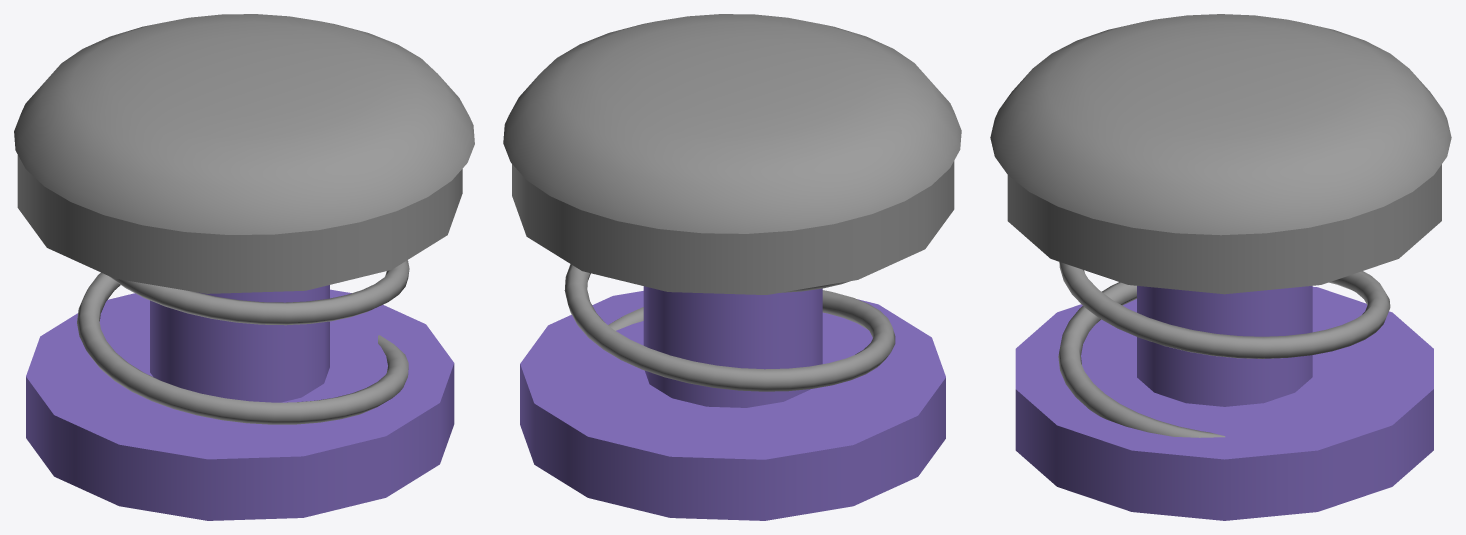
File: Spring.FBX
The picture shows the model from 3 angles, left to right: view 1: azimuth 30°, elevation 25°; view 2: azimuth 150°, elevation 25°; view 3: azimuth 270°, elevation 25°; orthographic projection.
Visible parts, largest first — view 1: SopraMolla, baseMolla, Molla; view 2: SopraMolla, baseMolla, Molla; view 3: SopraMolla, baseMolla, Molla.
Part boxes in pixels (bbox=[...]): SopraMolla: bbox=[14, 14, 474, 293]; baseMolla: bbox=[26, 289, 454, 520]; Molla: bbox=[77, 260, 409, 424]; SopraMolla: bbox=[503, 14, 961, 294]; baseMolla: bbox=[520, 291, 945, 520]; Molla: bbox=[564, 264, 895, 407]; SopraMolla: bbox=[990, 14, 1451, 294]; baseMolla: bbox=[1015, 286, 1433, 520]; Molla: bbox=[1058, 262, 1390, 437].
Bounding box in the file's own units: 11.92 × 11.92 × 10.21.
